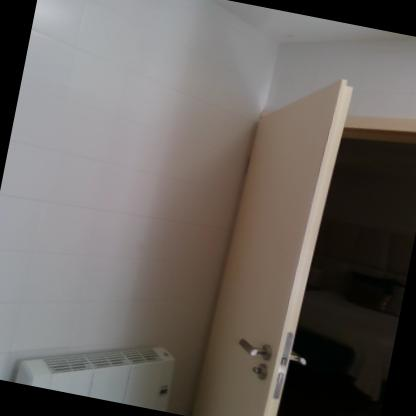semi: (198, 53, 415, 415)
